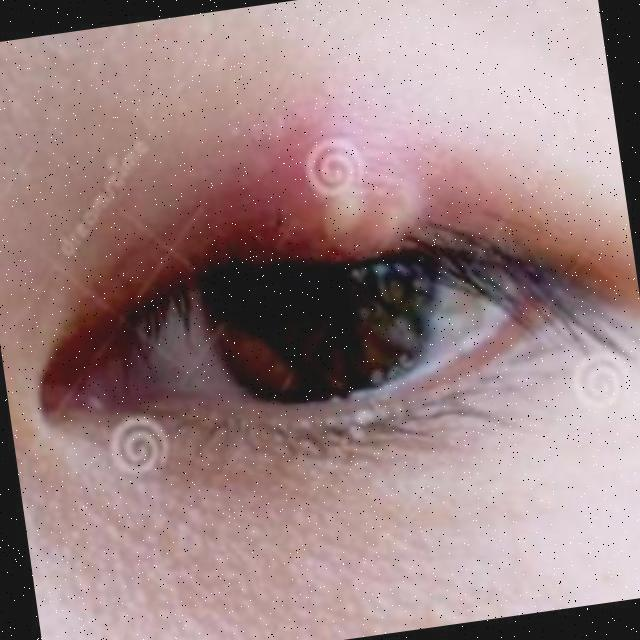Stye: (240, 110, 494, 324)
